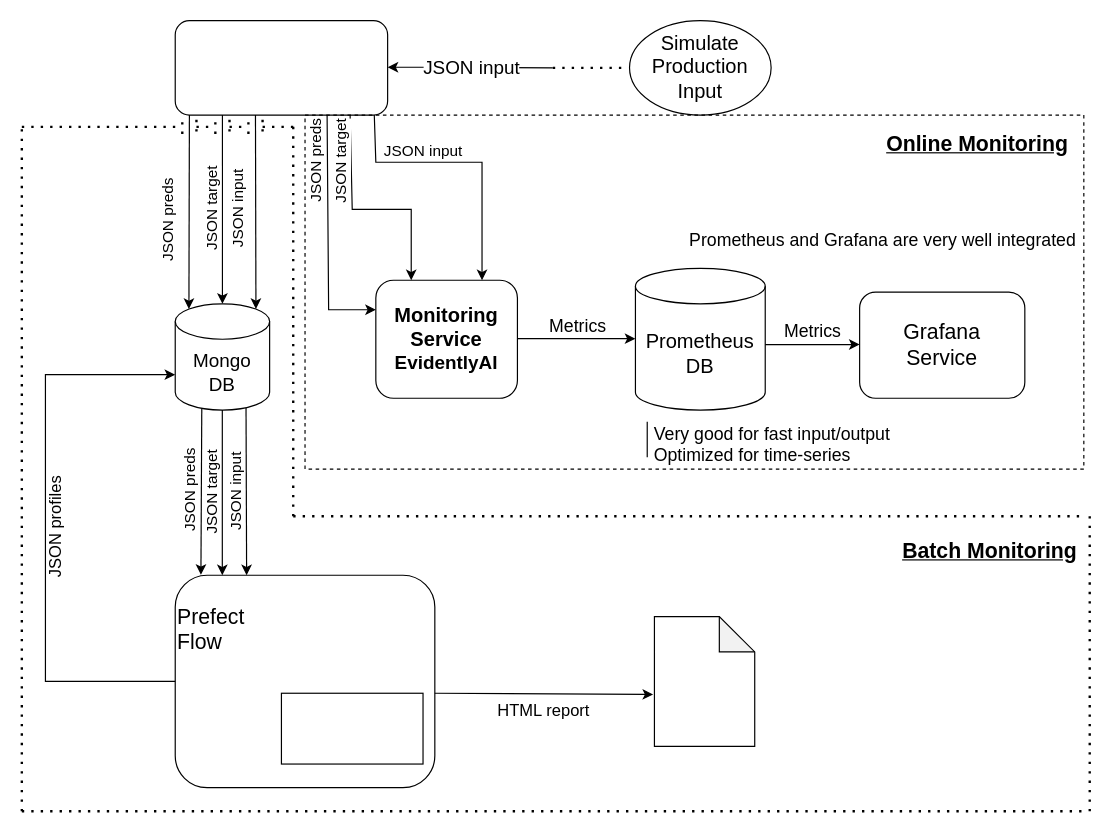
This 1112x834 diagram has some shape labels left out. Each missing label, with the centre of its shape:
Evidently AI: (351,728)
Evidently HTML report: (704,680)
Prediction Service: (281,67)
